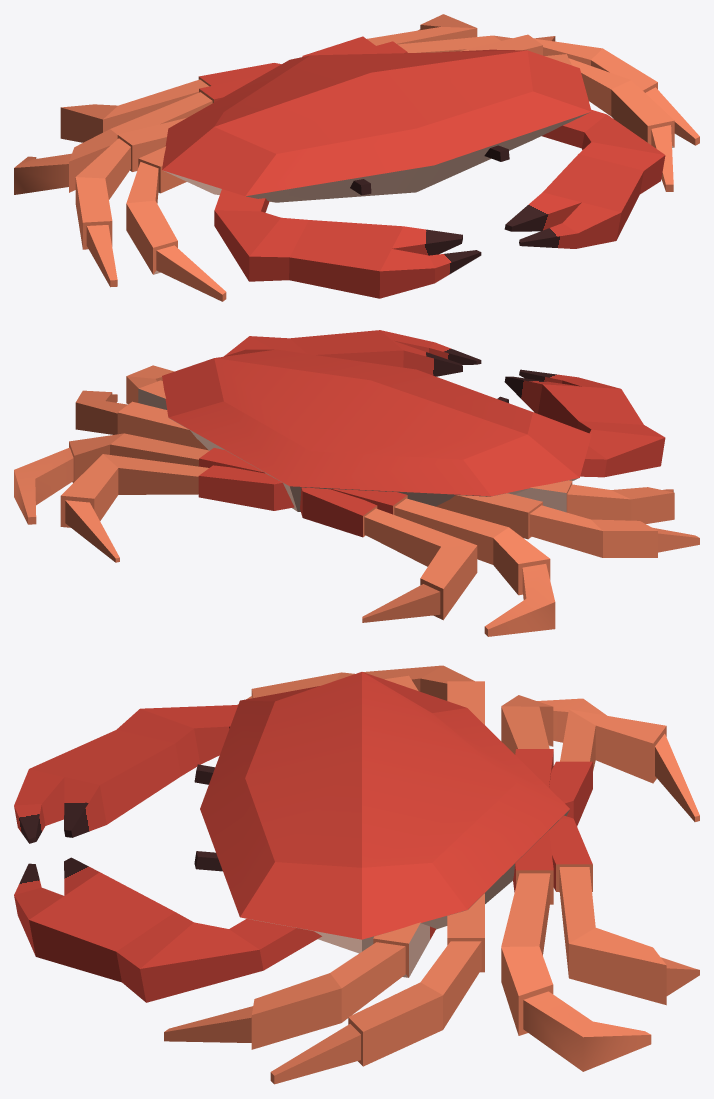
File: Crab0.glb
The picture shows the model from 3 angles, top to bottom: view 1: azimuth 30°, elevation 25°; view 2: azimuth 150°, elevation 25°; view 3: azimuth 270°, elevation 25°; orthographic projection. The views are drawn at different scales.
Parts seen in each view (by area): view 1: Geo_Crab; view 2: Geo_Crab; view 3: Geo_Crab.
Boxes of the visible parts, left/top/right/bottom form: Geo_Crab: left=14, top=14, right=699, bottom=301; Geo_Crab: left=14, top=330, right=699, bottom=636; Geo_Crab: left=14, top=665, right=699, bottom=1084.
Size of the model in its own units: 100 by 19.42 by 78.77.
Materials: 1 (1 with a texture image).
